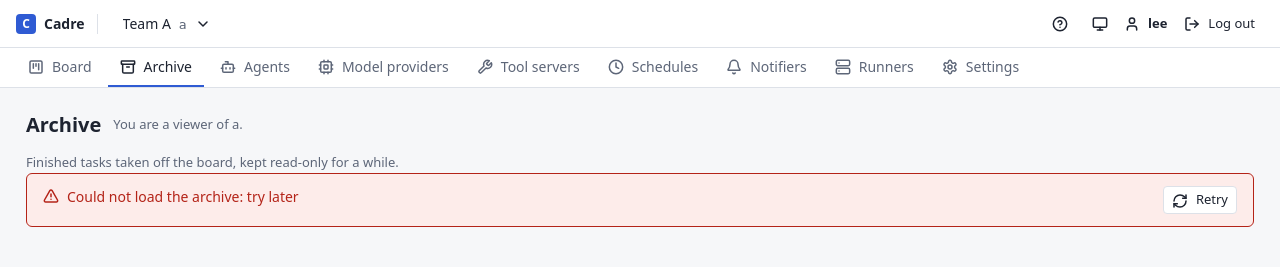
Scenario: Archive › offers Retry after a failed read, and reads again on it
The width and height of the screenshot is (1280, 267).
Expected: the text "Could not load the archive: try later" is shown, [67, 186, 299, 206]
Click the button "Retry" at (1200, 200), box [1163, 186, 1237, 214]
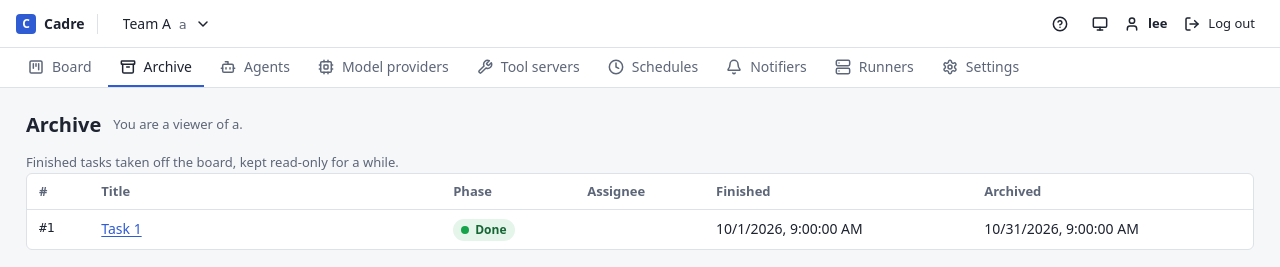
Result: the link "Task 1" is shown at [101, 219, 142, 238]
